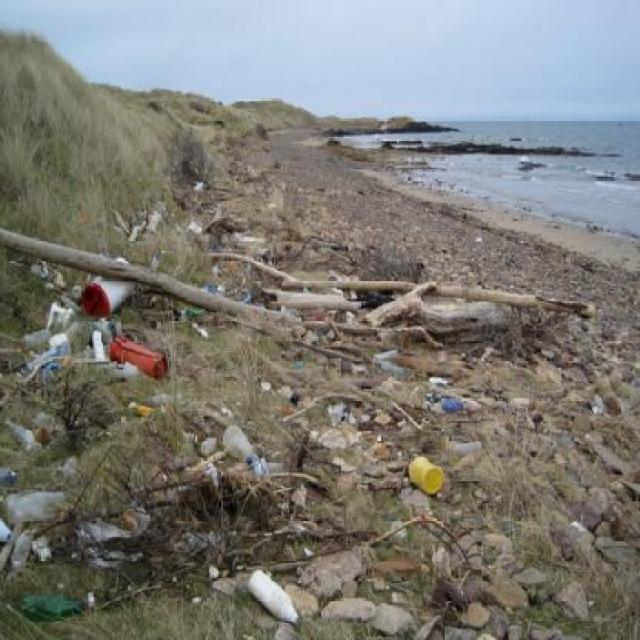garbage: (42, 254, 169, 385), (242, 560, 321, 638), (72, 492, 150, 570), (421, 375, 474, 428), (402, 449, 451, 504)
